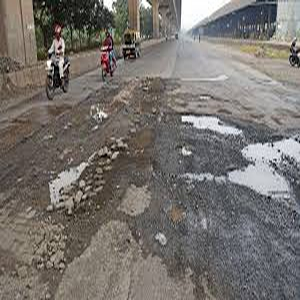pothole: (219, 136, 300, 208), (177, 110, 246, 138)
